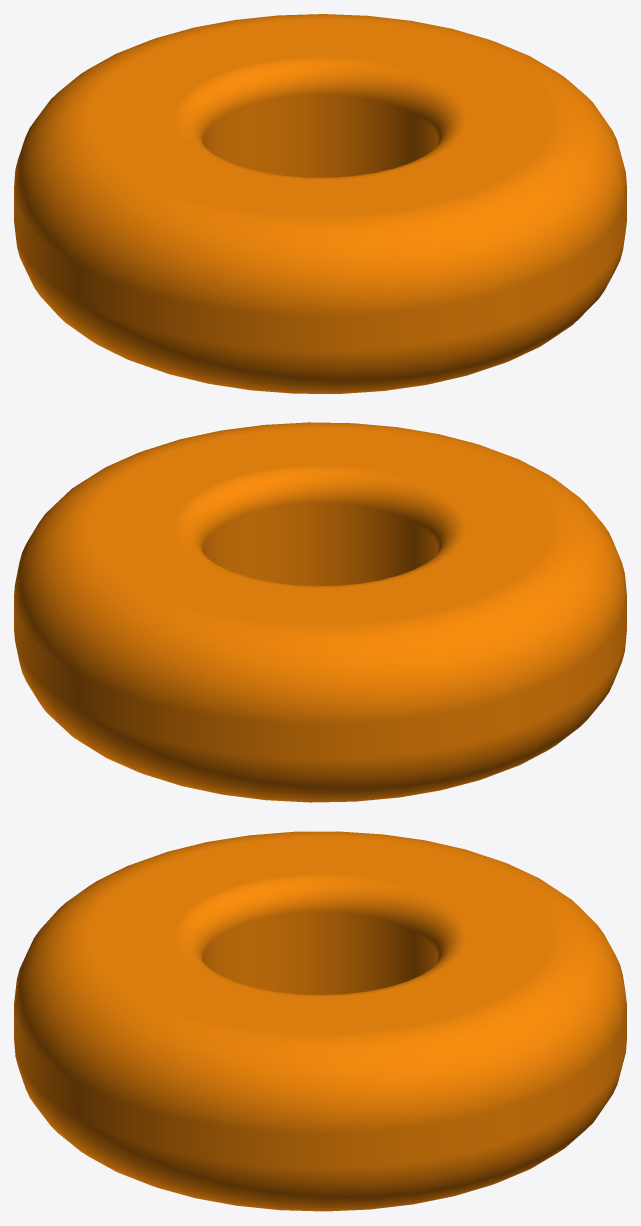
Rendered from disk5.dae.
3 renders of one model, top to bottom at view 1: azimuth 30°, elevation 25°; view 2: azimuth 150°, elevation 25°; view 3: azimuth 270°, elevation 25°, orthographic.
Visible parts, largest first — view 1: ID2; view 2: ID2; view 3: ID2.
Boxes of the visible parts, x1=… form: ID2: x1=14, y1=14, x2=626, y2=393; ID2: x1=14, y1=422, x2=626, y2=802; ID2: x1=14, y1=831, x2=626, y2=1211.
Bounding box in the file's own units: 0.0325 × 0.0325 × 0.01.
